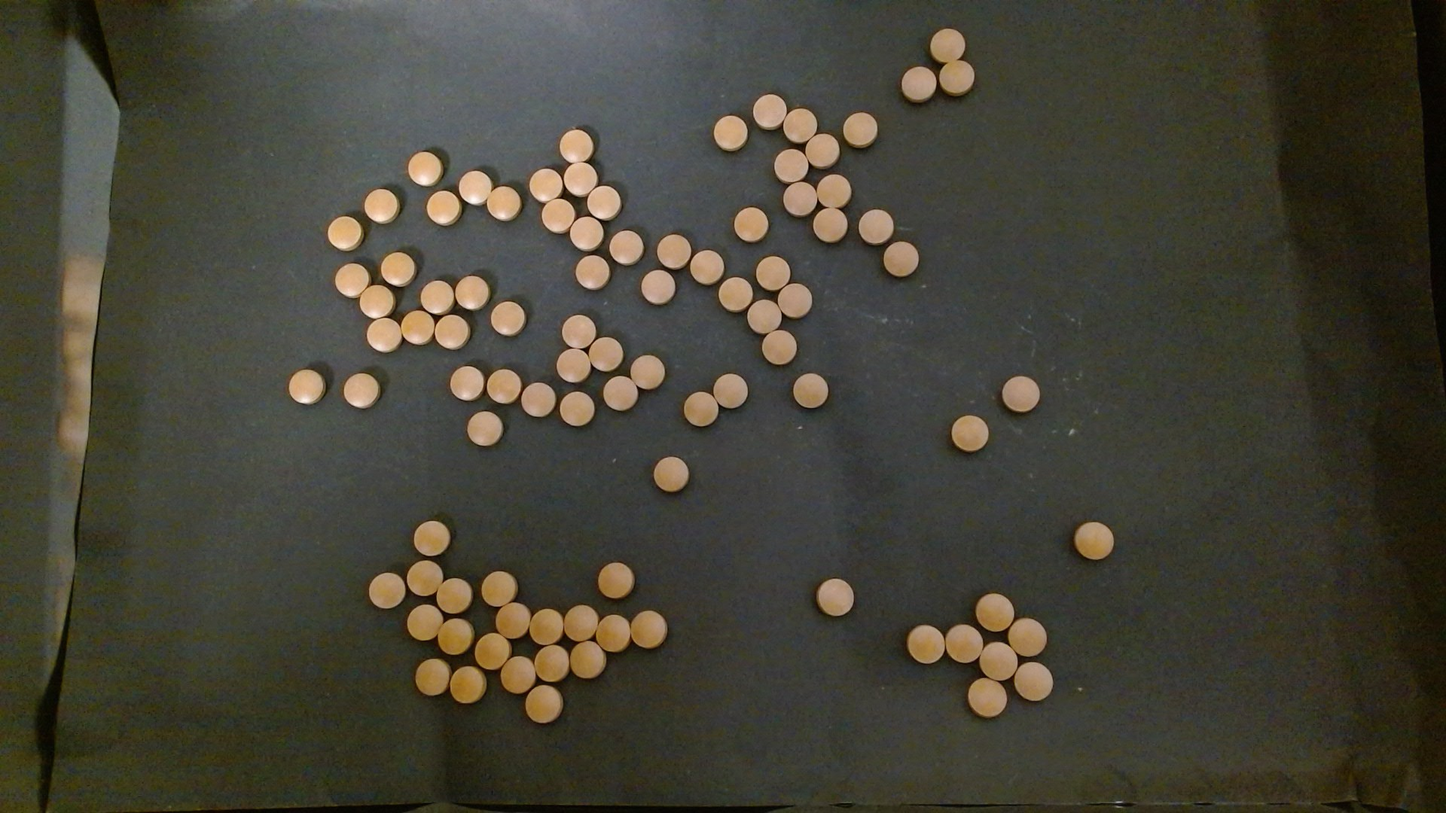Circle: (1012, 661, 1053, 701), (974, 592, 1014, 632), (967, 677, 1007, 717), (1007, 617, 1047, 656), (1073, 521, 1114, 559), (406, 602, 445, 641), (906, 624, 944, 664), (816, 578, 854, 617), (1001, 375, 1040, 413), (629, 610, 667, 649), (525, 684, 563, 723), (979, 641, 1017, 679), (950, 415, 989, 452), (944, 624, 981, 663), (368, 571, 405, 609), (479, 570, 517, 607), (569, 640, 606, 678), (412, 519, 450, 556), (450, 665, 486, 704), (474, 632, 510, 671), (343, 372, 380, 409), (652, 455, 689, 492), (414, 658, 450, 696), (288, 369, 325, 405), (597, 562, 634, 598), (883, 241, 919, 278), (900, 65, 936, 102), (938, 59, 975, 95), (761, 330, 798, 366), (437, 577, 473, 614), (859, 208, 895, 245), (327, 215, 364, 251), (574, 254, 610, 291), (334, 262, 371, 298), (534, 644, 569, 682), (490, 300, 526, 336), (640, 269, 676, 305), (380, 250, 416, 286), (777, 282, 813, 318), (755, 255, 791, 291), (449, 364, 484, 401), (501, 656, 536, 693), (712, 114, 747, 151), (843, 111, 878, 148), (495, 601, 530, 638), (406, 559, 441, 596), (366, 316, 401, 352), (520, 382, 555, 418), (467, 410, 502, 446), (792, 373, 828, 408), (683, 391, 718, 427), (560, 391, 595, 427), (364, 188, 400, 223), (602, 376, 638, 411), (407, 151, 443, 186), (434, 314, 470, 349), (929, 27, 965, 62), (752, 93, 787, 129), (782, 180, 817, 216), (816, 173, 852, 208), (773, 148, 809, 183), (358, 284, 395, 318), (734, 205, 768, 242), (587, 184, 621, 221), (713, 373, 748, 408), (426, 190, 461, 225), (559, 128, 594, 163), (529, 608, 563, 644), (437, 620, 471, 656), (487, 184, 521, 220), (454, 275, 490, 309), (718, 276, 752, 312), (541, 197, 575, 233), (657, 233, 691, 269), (805, 132, 839, 168), (748, 298, 782, 333), (609, 230, 643, 265), (565, 605, 599, 640), (529, 167, 563, 202), (563, 161, 597, 196), (419, 279, 453, 314), (813, 206, 846, 242), (459, 169, 492, 205), (487, 368, 520, 403), (557, 347, 590, 381), (631, 354, 664, 388), (784, 106, 818, 139), (690, 250, 722, 285), (570, 216, 602, 251), (403, 309, 435, 342), (599, 617, 630, 651), (563, 315, 594, 348), (588, 337, 618, 370)
